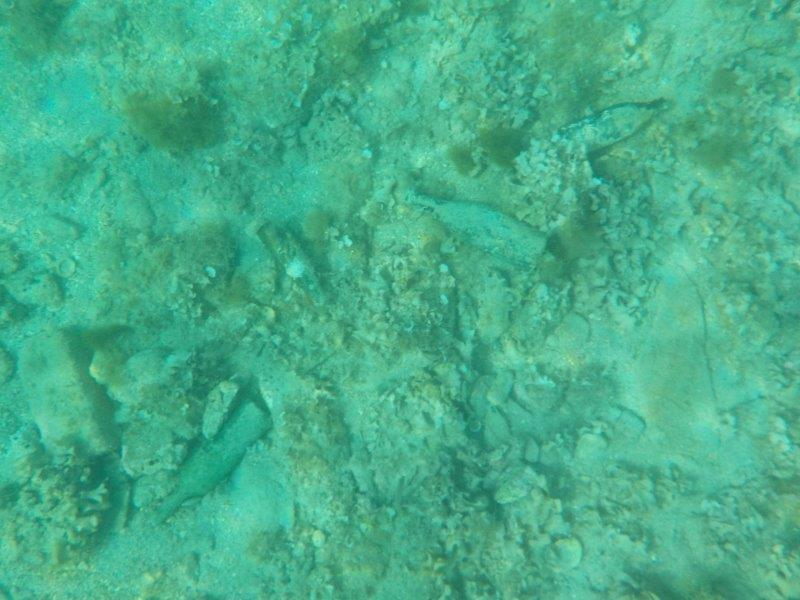bottle: (145, 394, 276, 530), (402, 186, 555, 272), (546, 93, 673, 164), (253, 214, 330, 309)
